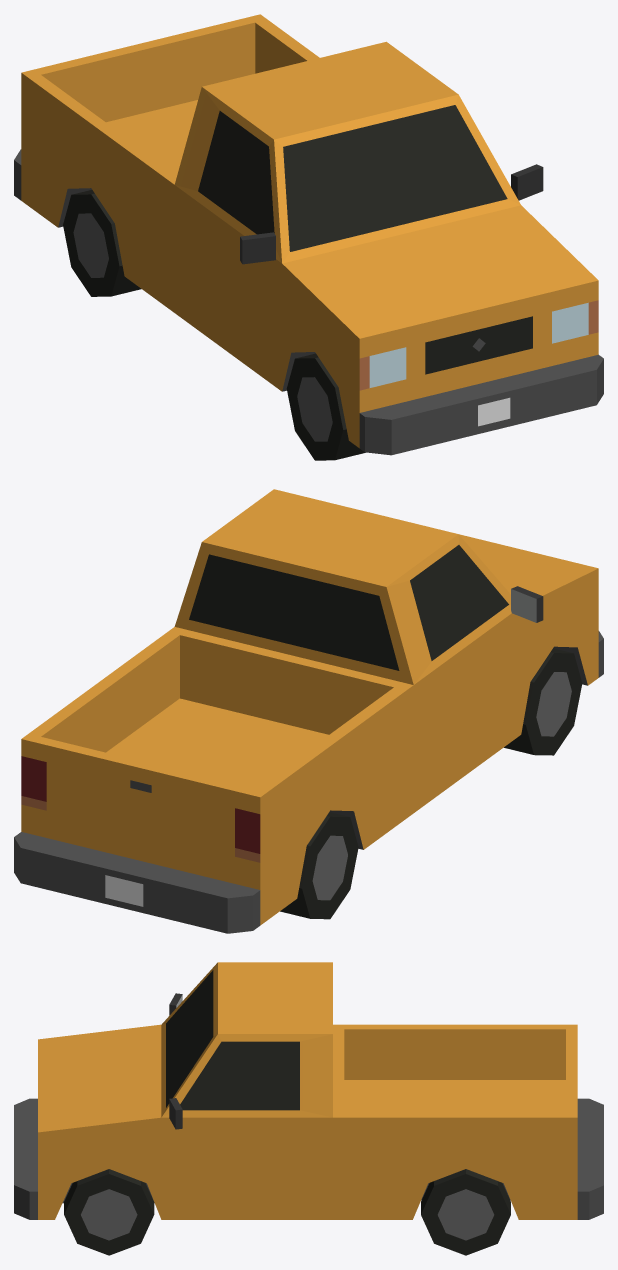
The model's file is Veh_Pickup_01_Yellow.glb.
The picture shows the model from 3 angles, top to bottom: view 1: azimuth 30°, elevation 25°; view 2: azimuth 150°, elevation 25°; view 3: azimuth 270°, elevation 25°; orthographic projection. The views are drawn at different scales.
Parts seen in each view (by area): view 1: Pickup_01_Yellow, Wheel_FR, Wheel_RR; view 2: Pickup_01_Yellow, Wheel_RR, Wheel_FR; view 3: Pickup_01_Yellow, Wheel_FL, Wheel_RL.
Part boxes in pixels (bbox=[...]): Pickup_01_Yellow: bbox=[14, 14, 603, 455]; Wheel_FR: bbox=[286, 353, 365, 460]; Wheel_RR: bbox=[63, 190, 141, 296]; Pickup_01_Yellow: bbox=[14, 489, 603, 933]; Wheel_RR: bbox=[280, 812, 358, 919]; Wheel_FR: bbox=[504, 648, 582, 755]; Pickup_01_Yellow: bbox=[14, 962, 603, 1219]; Wheel_FL: bbox=[64, 1169, 154, 1255]; Wheel_RL: bbox=[421, 1169, 510, 1255].
Size of the model in its own units: 1.34 by 1.12 by 2.85.
Materials: 1 (1 with a texture image).
